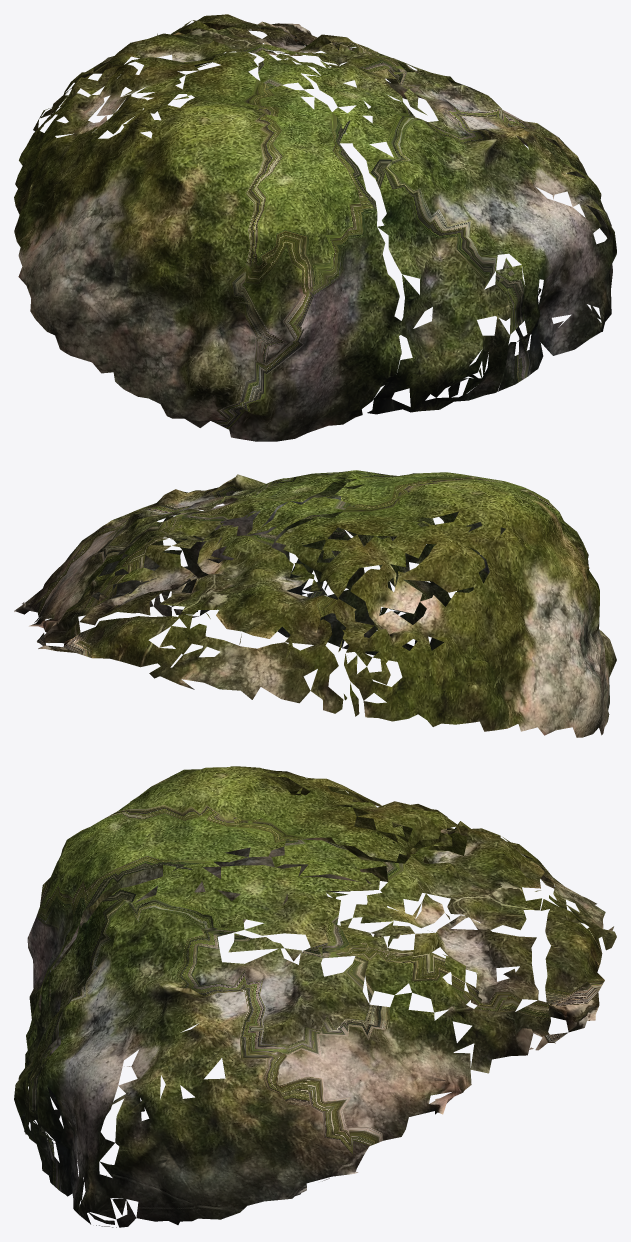
Rendered from mossy-stone.glb.
3 views of the same model, one above another, from view 1: azimuth 30°, elevation 25°; view 2: azimuth 150°, elevation 25°; view 3: azimuth 270°, elevation 25° (orthographic). The views are drawn at different scales.
Visible parts, largest first — view 1: Object_2; view 2: Object_2; view 3: Object_2.
Part boxes in pixels (bbox=[...]): Object_2: bbox=[14, 14, 616, 441]; Object_2: bbox=[14, 470, 616, 737]; Object_2: bbox=[14, 766, 616, 1227].
Bounding box in the file's own units: 0.8784 × 0.4071 × 0.7667.
1 material, 1 textured.
